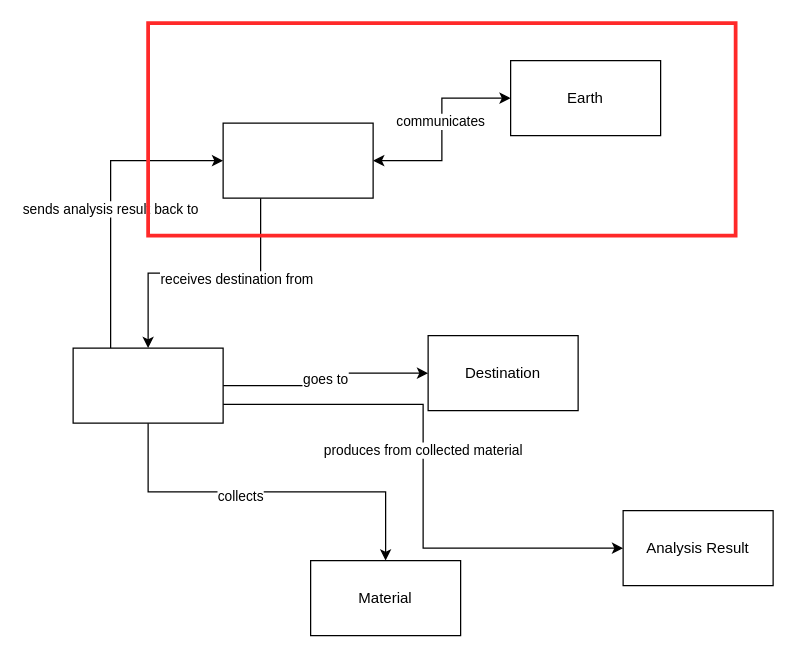
Image size: 795x658. Some labels were removed from this diagram. The shapes that lost their labels are listed below. From the top down, each one's centre as x and y in pixels, then its label:
the point at 297,160: Radio Module
the point at 147,385: Rover
